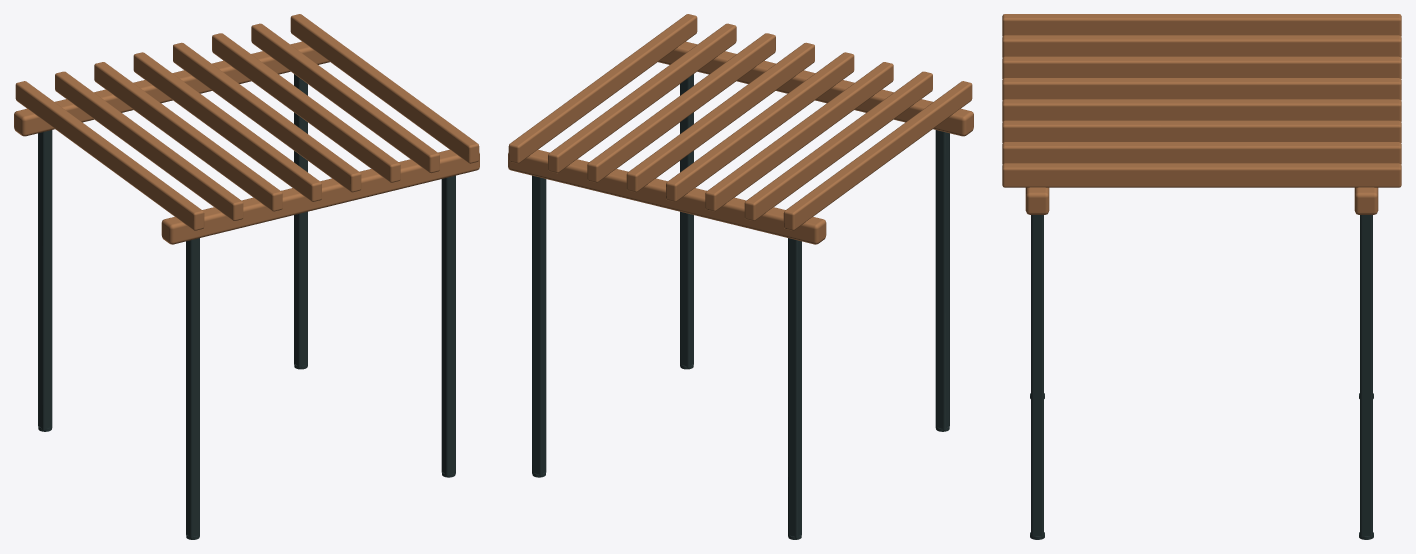
The model's file is wp-pergola.glb.
3 renders of one model, left to right at view 1: azimuth 30°, elevation 25°; view 2: azimuth 150°, elevation 25°; view 3: azimuth 270°, elevation 25°, orthographic. The views are drawn at different scales.
Visible parts, largest first — view 1: wp-pergola; view 2: wp-pergola; view 3: wp-pergola.
Boxes of the visible parts, x1=… form: wp-pergola: x1=14, y1=14, x2=479, y2=539; wp-pergola: x1=508, y1=14, x2=973, y2=539; wp-pergola: x1=1002, y1=14, x2=1401, y2=539.
Bounding box in the file's own units: 2.4 × 2.5 × 2.4.
